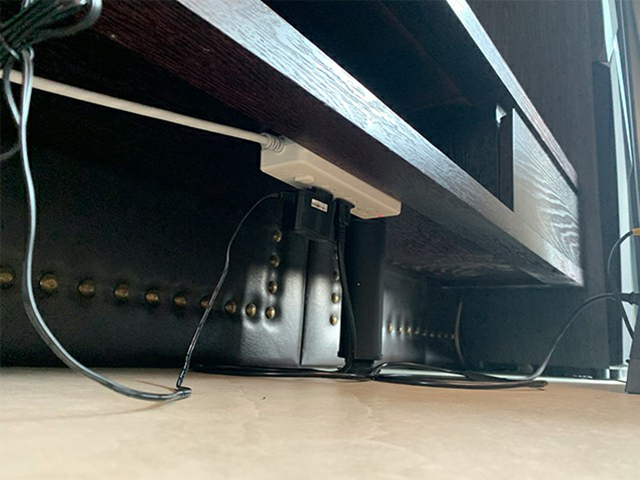wire: (185, 119, 546, 392), (1, 1, 157, 402), (559, 225, 639, 406)
